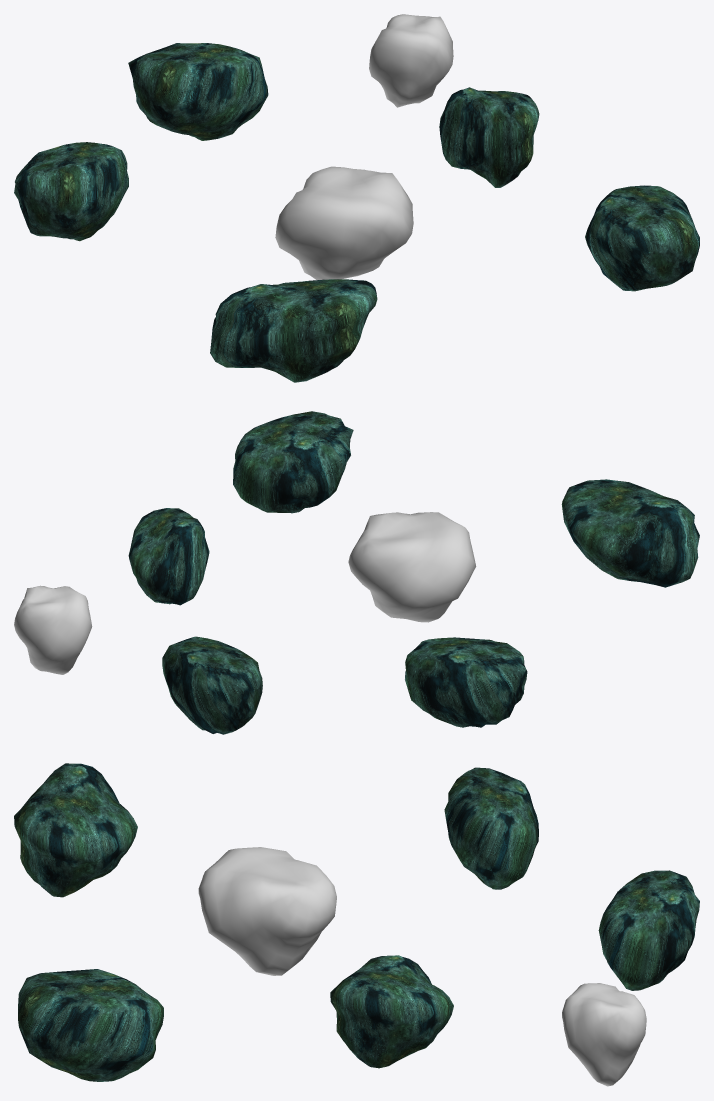
Rendered from Stromatolites_1.fbx.
3 views of the same model, one above another, from view 1: azimuth 30°, elevation 25°; view 2: azimuth 150°, elevation 25°; view 3: azimuth 270°, elevation 25° (orthographic). The views are drawn at different scales.
Visible parts, largest first — view 1: Landscape_001; view 2: Landscape_001; view 3: Landscape_001.
Part boxes in pixels (<box>): Landscape_001: <box>14,14,699,382</box>; Landscape_001: <box>14,411,699,734</box>; Landscape_001: <box>14,763,699,1086</box>.
Size of the model in its own units: 116 by 22.44 by 133.
Materials: 2 (1 with a texture image).
